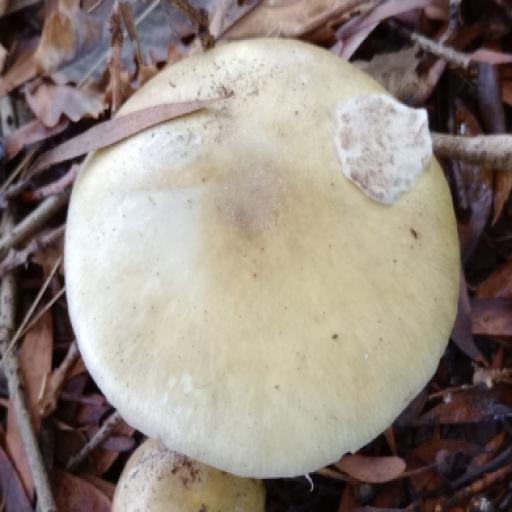Death Cap: (62, 38, 459, 469)
